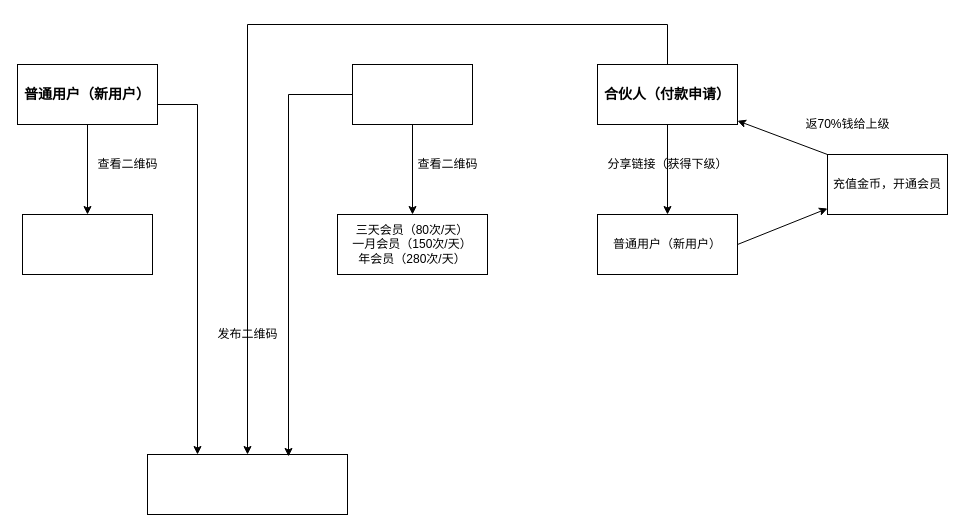
Some shapes in this 965 by 532 pixel diagram are drawn without their labels. Here are the shapes that lost their labels. From the top down, the centre of each, then its label:
At point 412,94: "会员".
At point 87,244: "普通用户（3次/天）".
At point 247,484: "充值金币后发布（30金币/次）".
